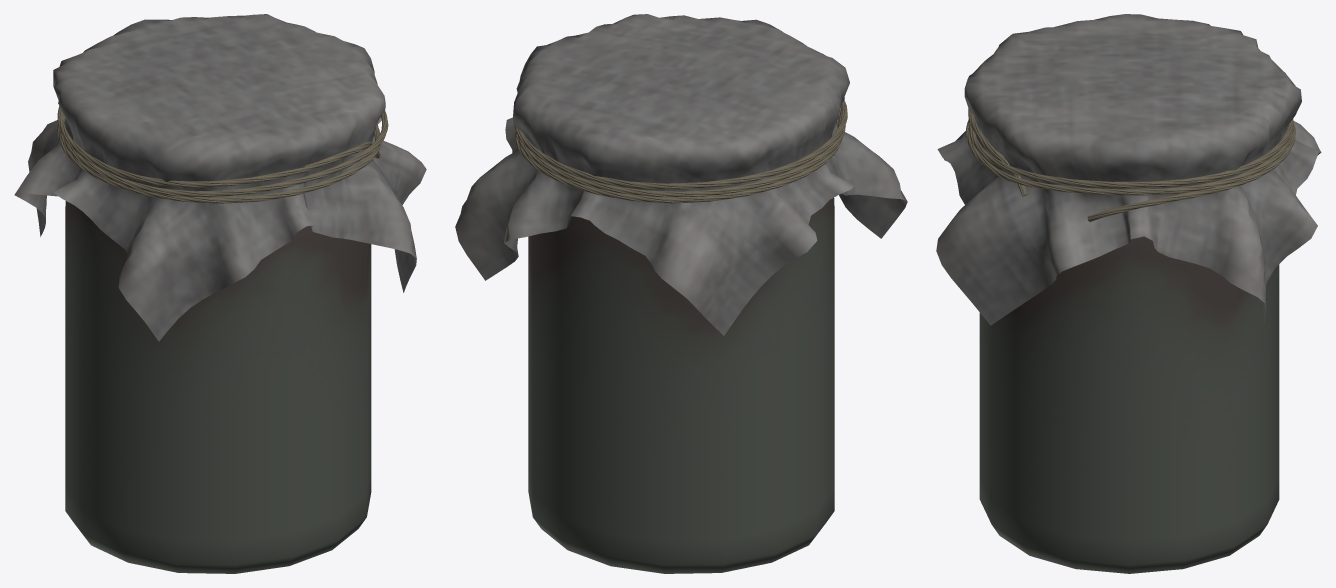
Rendered from SM_Jar_01.fbx.
3 views of the same model, side by side, from view 1: azimuth 30°, elevation 25°; view 2: azimuth 150°, elevation 25°; view 3: azimuth 270°, elevation 25° (orthographic).
Parts seen in each view (by area): view 1: SM_Jar_01_LOD0; view 2: SM_Jar_01_LOD0; view 3: SM_Jar_01_LOD0.
Boxes of the visible parts, box(x1,y1,x2,y2) form: SM_Jar_01_LOD0: box(14, 14, 426, 573); SM_Jar_01_LOD0: box(455, 14, 907, 573); SM_Jar_01_LOD0: box(936, 14, 1321, 573).
Bounding box in the file's own units: 12.84 × 12.52 × 15.83.
